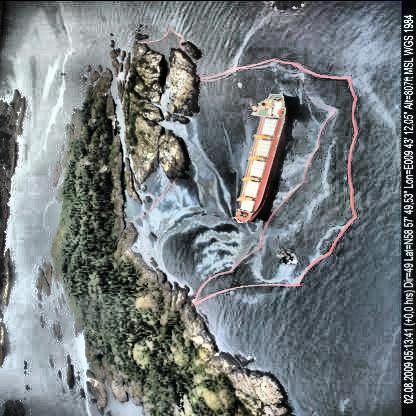sheen: (135, 118, 257, 290)
